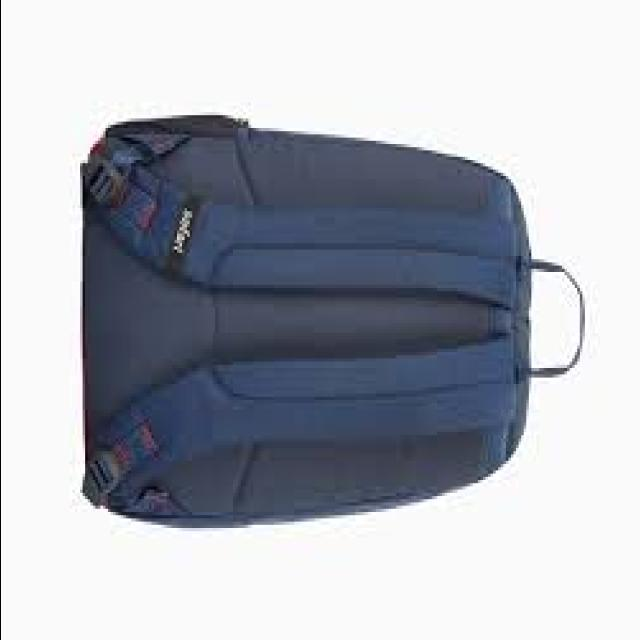backpack: (80, 113, 588, 529)
